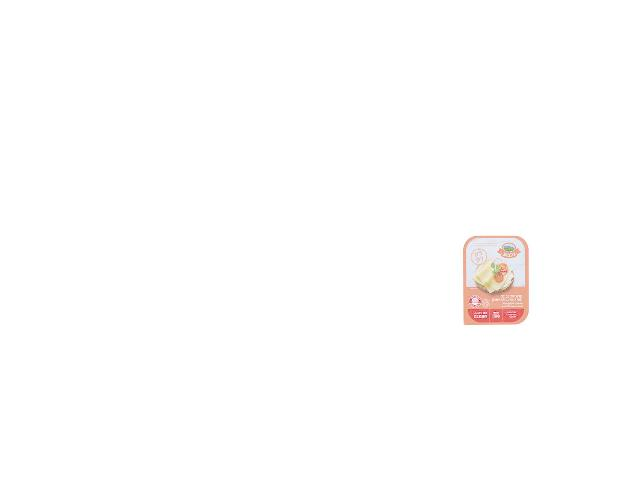cheese: (461, 233, 533, 330)
